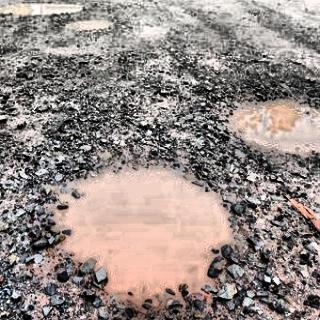pothole: (28, 152, 244, 314), (221, 86, 320, 166)
